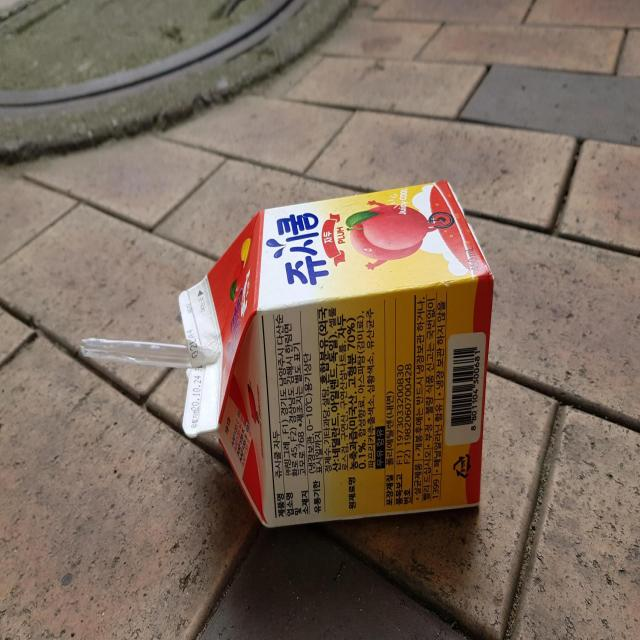paperpack: (178, 180, 494, 527)
